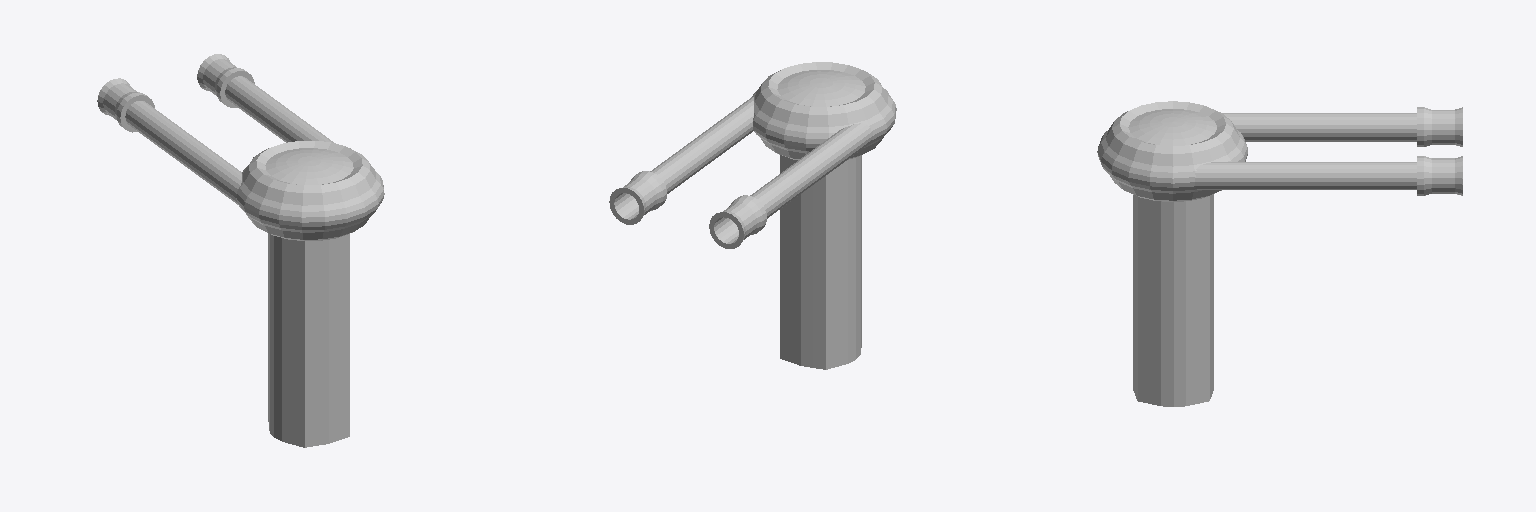
File: Turret.obj
3 renders of one model, left to right at view 1: azimuth 30°, elevation 25°; view 2: azimuth 150°, elevation 25°; view 3: azimuth 270°, elevation 25°, orthographic.
Parts seen in each view (by area): view 1: polySurface12; view 2: polySurface12; view 3: polySurface12.
Boxes of the visible parts, x1=… form: polySurface12: x1=97, y1=54, x2=384, y2=447; polySurface12: x1=609, y1=62, x2=896, y2=369; polySurface12: x1=1097, y1=101, x2=1462, y2=406.
Size of the model in its own units: 6.8 by 12.95 by 15.98.